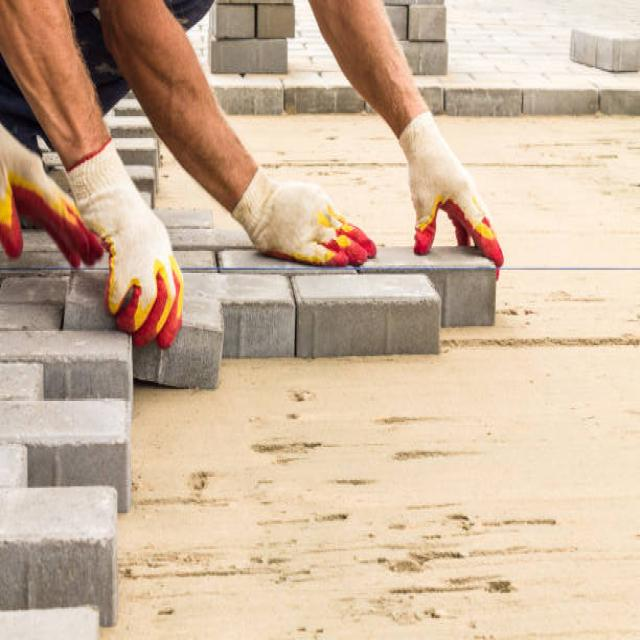gloves: (67, 135, 187, 350), (400, 110, 507, 278), (0, 124, 105, 267), (235, 169, 376, 267)
